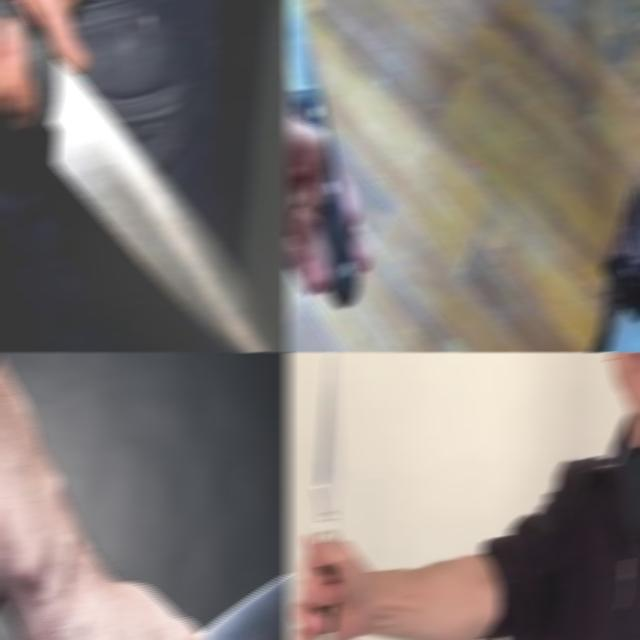Knife: (0, 0, 287, 352), (286, 0, 361, 306), (199, 572, 290, 640)
Knife_Handle: (0, 0, 290, 352), (286, 0, 386, 314), (18, 531, 290, 640), (289, 352, 376, 640)
